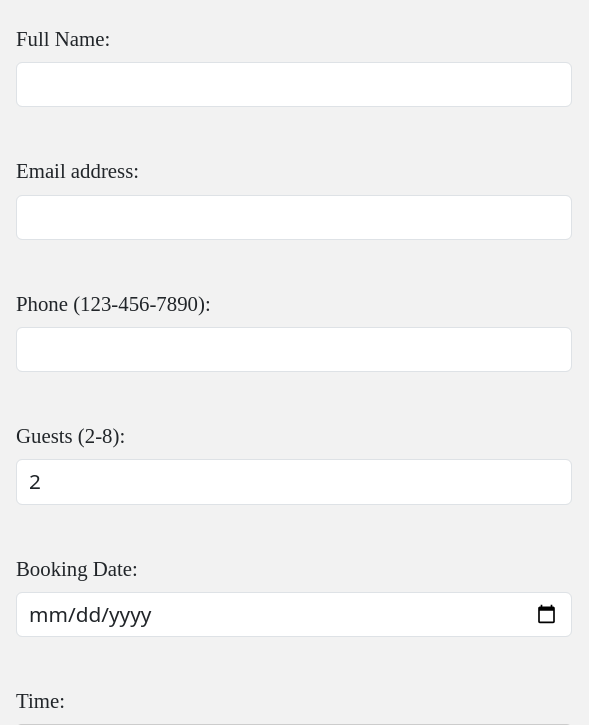
Test: BookingForm Input Validation › shows error messages for invalid "bad data" inputs
Note: Enter bad name (numbers)
In the field labelled "Full Name:": [294, 85] box [16, 62, 572, 107], type "John123"
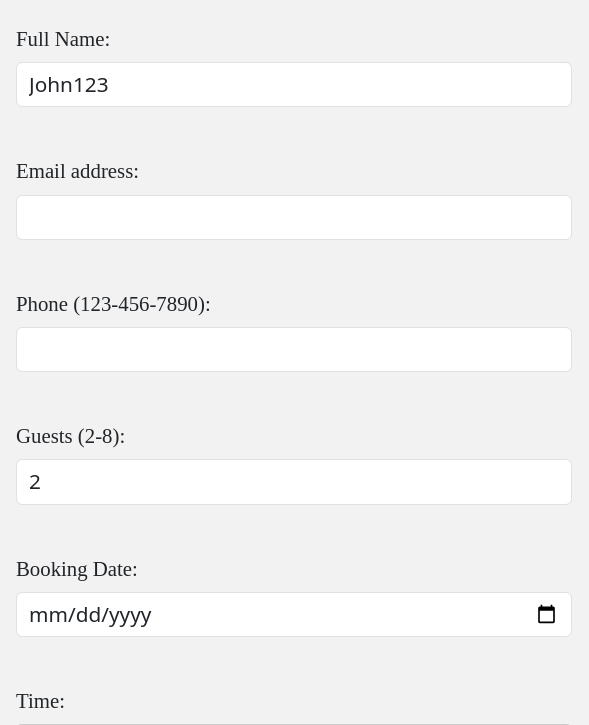
Note: Enter bad email
In the field labelled "Email address:": [294, 217] box [16, 195, 572, 240], type "not-an-email"
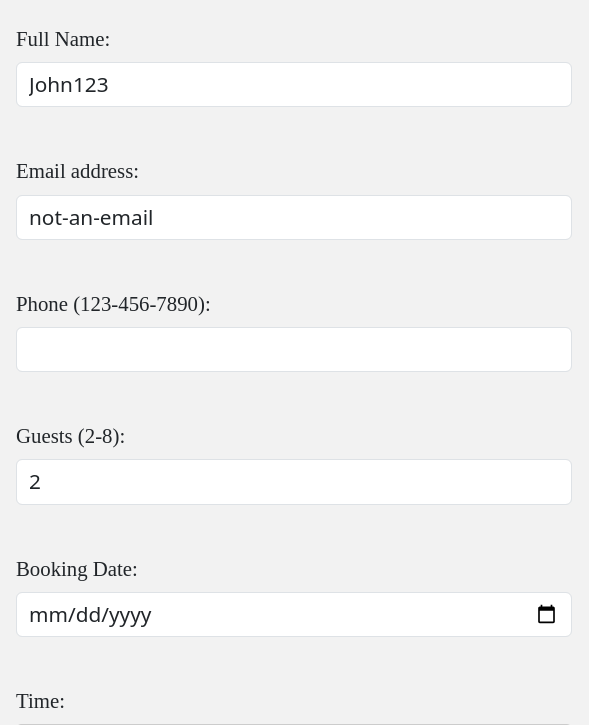
Note: Enter bad phone format
In the field labelled "Phone (123-456-7890):": [294, 350] box [16, 327, 572, 372], type "1234567890"
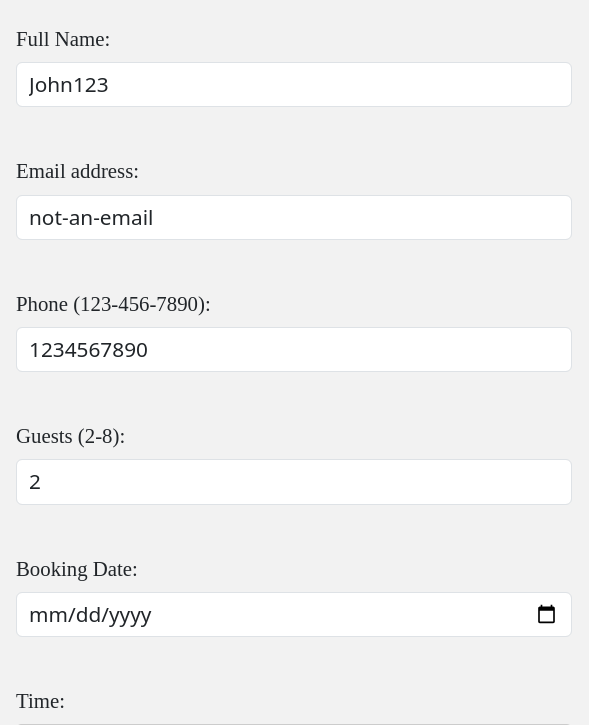
Note: Enter guest count out of range
Replace the text in the number field labelled "Guests (2-8):" with "10": [294, 482] box [16, 459, 572, 504]
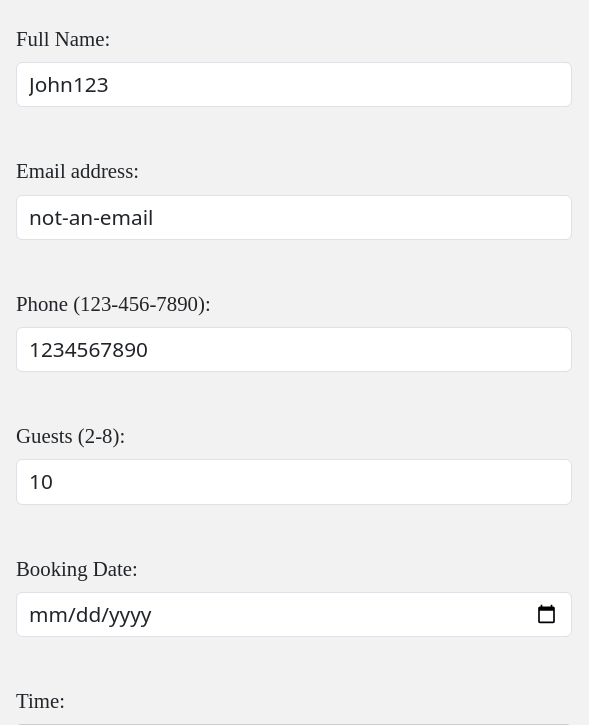
Leave the number field labelled "Guests (2-8):", box [16, 459, 572, 504]
(page scrolled)
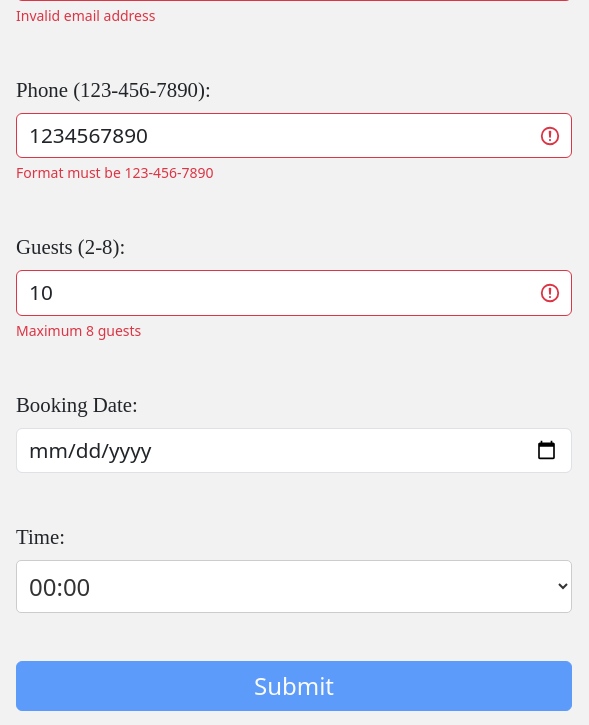
Now the text "Invalid email address" is shown, box [16, 6, 155, 25]
Now the text "Format must be 123-456-7890" is shown, box [16, 163, 214, 182]
Now the text "Maximum 8 guests" is shown, box [16, 320, 141, 340]
